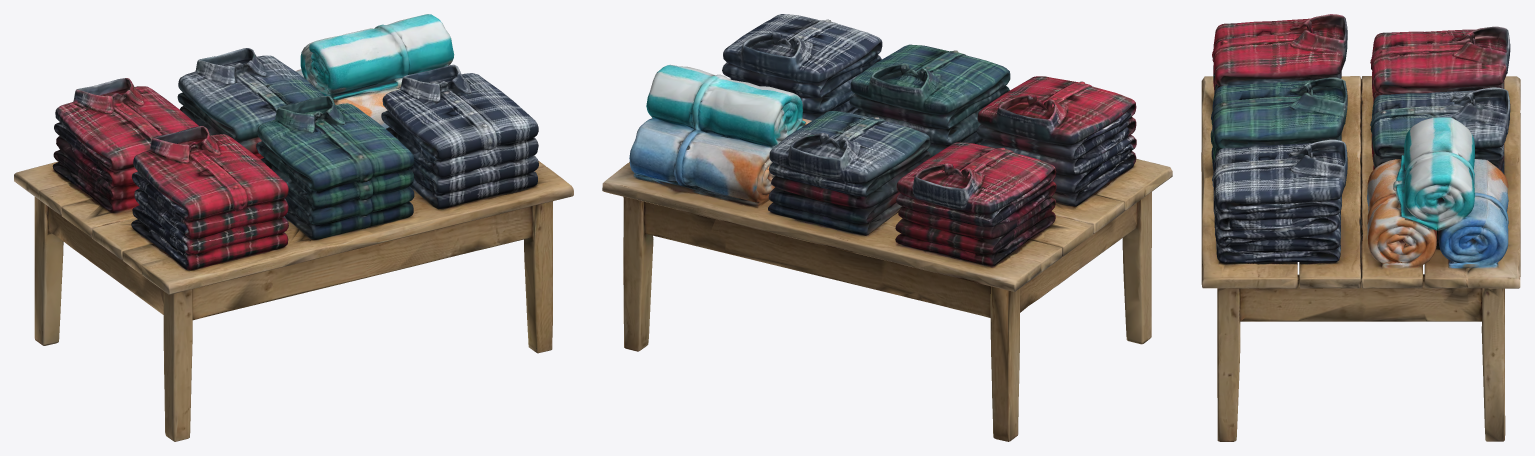
File: CCG_FlannelTable_web.glb
3 renders of one model, left to right at view 1: azimuth 30°, elevation 25°; view 2: azimuth 150°, elevation 25°; view 3: azimuth 270°, elevation 25°, orthographic. The views are drawn at different scales.
Parts seen in each view (by area): view 1: tripo_node_f077e7f0-742b-445d-ad9f-7b164fd811ca; view 2: tripo_node_f077e7f0-742b-445d-ad9f-7b164fd811ca; view 3: tripo_node_f077e7f0-742b-445d-ad9f-7b164fd811ca.
Part boxes in pixels (x1=…): tripo_node_f077e7f0-742b-445d-ad9f-7b164fd811ca: x1=14, y1=14, x2=573, y2=441; tripo_node_f077e7f0-742b-445d-ad9f-7b164fd811ca: x1=602, y1=14, x2=1172, y2=441; tripo_node_f077e7f0-742b-445d-ad9f-7b164fd811ca: x1=1201, y1=14, x2=1520, y2=441.
Size of the model in its own units: 0.9813 by 0.592 by 0.6524.
1 material, 1 textured.
